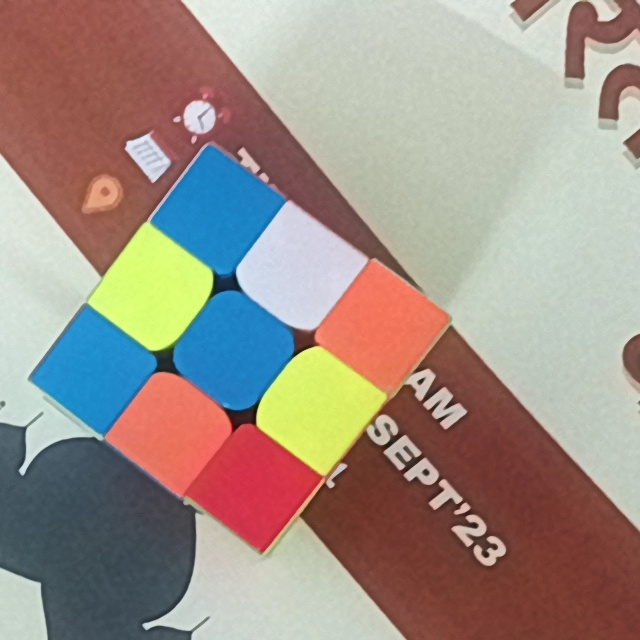tile: (266, 232, 334, 305), (199, 313, 268, 383), (350, 293, 419, 361), (137, 399, 206, 465), (283, 374, 350, 441), (217, 456, 284, 522), (62, 338, 126, 403), (119, 260, 185, 321), (187, 184, 250, 240)
